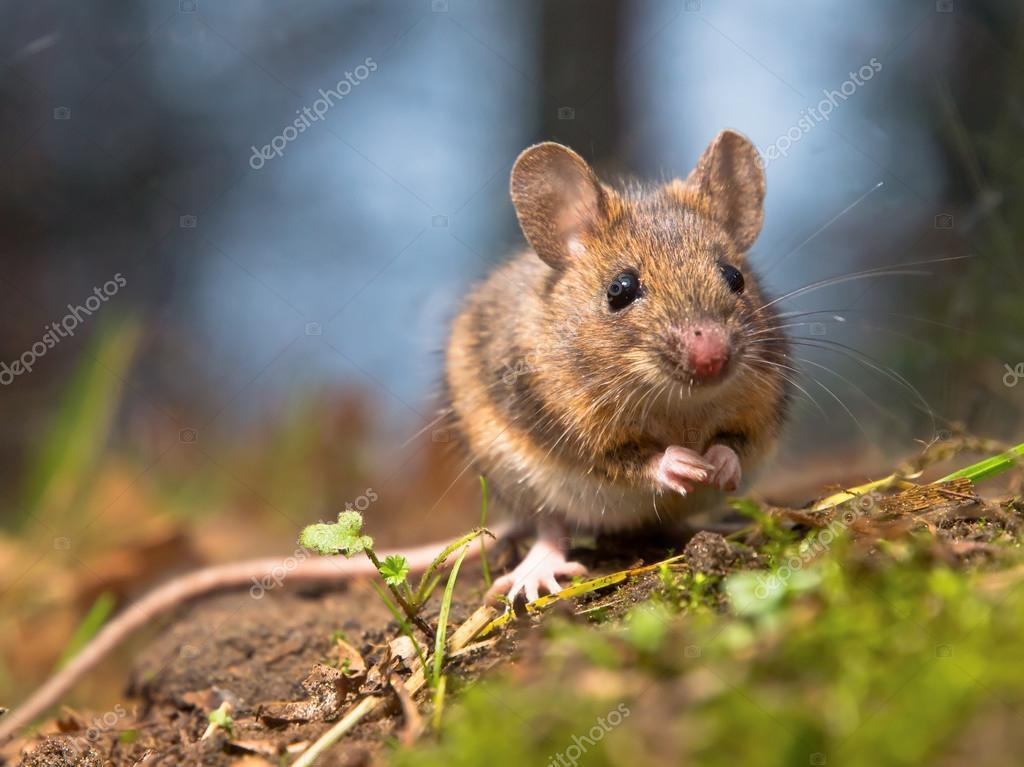rat: (0, 127, 794, 764)
